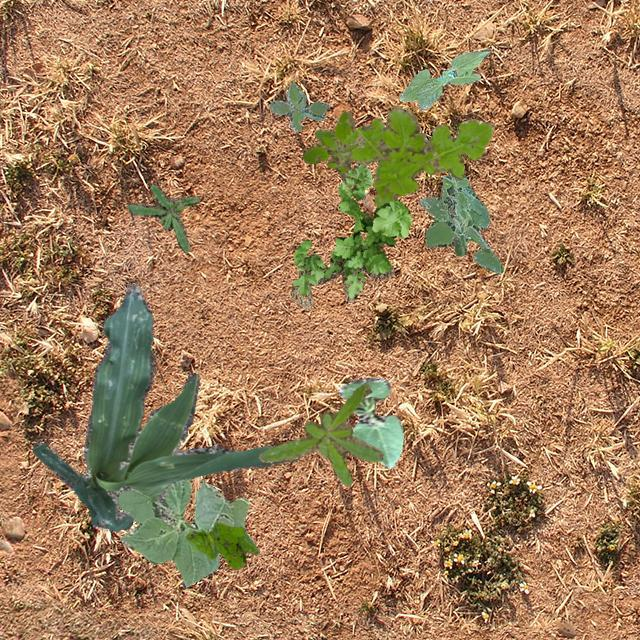crop: (32, 283, 282, 532), (84, 470, 248, 588), (338, 376, 402, 466), (398, 48, 489, 108)
weed: (290, 162, 410, 308), (342, 106, 493, 206), (258, 384, 382, 484), (418, 170, 502, 272), (124, 182, 198, 252), (302, 110, 361, 177), (184, 522, 258, 568), (268, 81, 328, 130)
